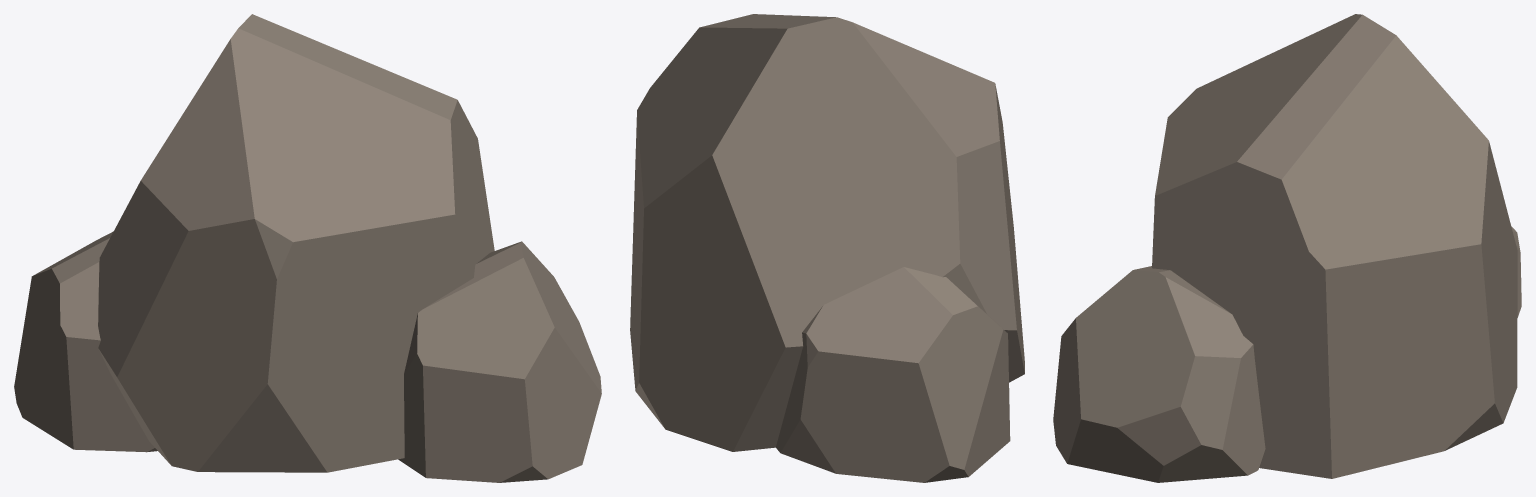
File: OptionsStone.fbx
The picture shows the model from 3 angles, left to right: view 1: azimuth 30°, elevation 25°; view 2: azimuth 150°, elevation 25°; view 3: azimuth 270°, elevation 25°; orthographic projection. The views are drawn at different scales.
Parts seen in each view (by area): view 1: Stone; view 2: Stone; view 3: Stone.
Part boxes in pixels (x1=…): Stone: x1=14, y1=14, x2=601, y2=482; Stone: x1=630, y1=14, x2=1024, y2=482; Stone: x1=1053, y1=14, x2=1521, y2=482.
Bounding box in the file's own units: 78.52 × 66.92 × 77.59.
